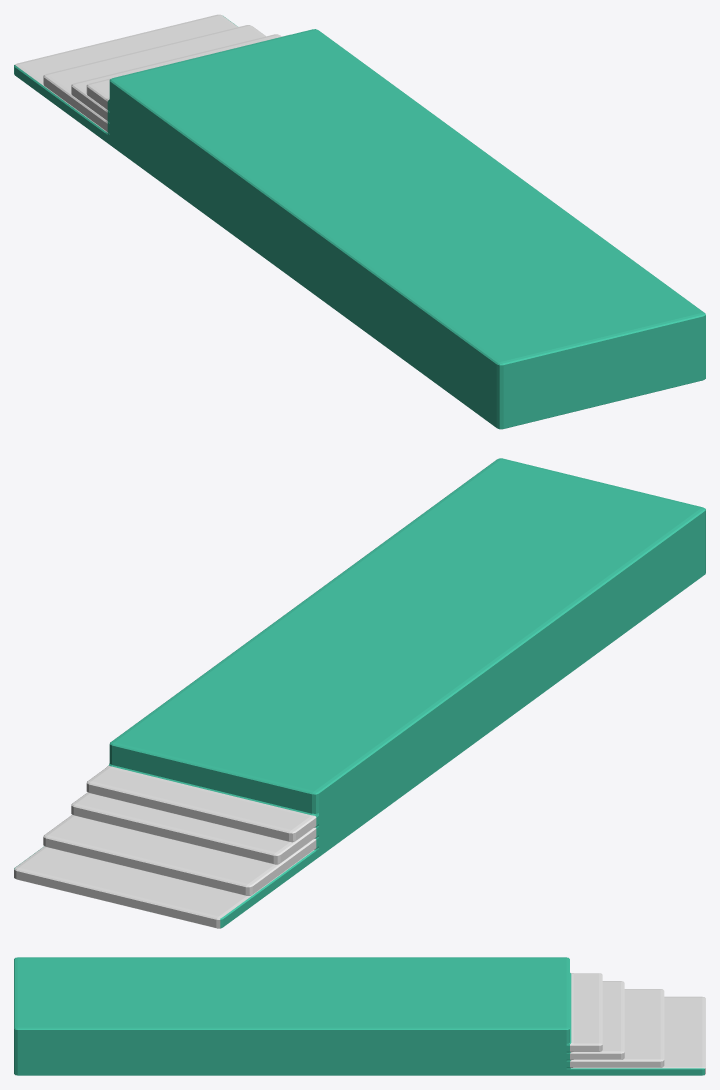
Rendered from treedent.glb.
3 renders of one model, top to bottom at view 1: azimuth 30°, elevation 25°; view 2: azimuth 150°, elevation 25°; view 3: azimuth 270°, elevation 25°, orthographic. The views are drawn at different scales.
Parts seen in each view (by area): view 1: Cube_0; view 2: Cube_0; view 3: Cube_0.
Boxes of the visible parts, x1,y1,x2,y2 form: Cube_0: (14,14,705,429); Cube_0: (14,458,705,928); Cube_0: (14,957,705,1075).
Size of the model in its own units: 2 by 0.6084 by 8.08.
